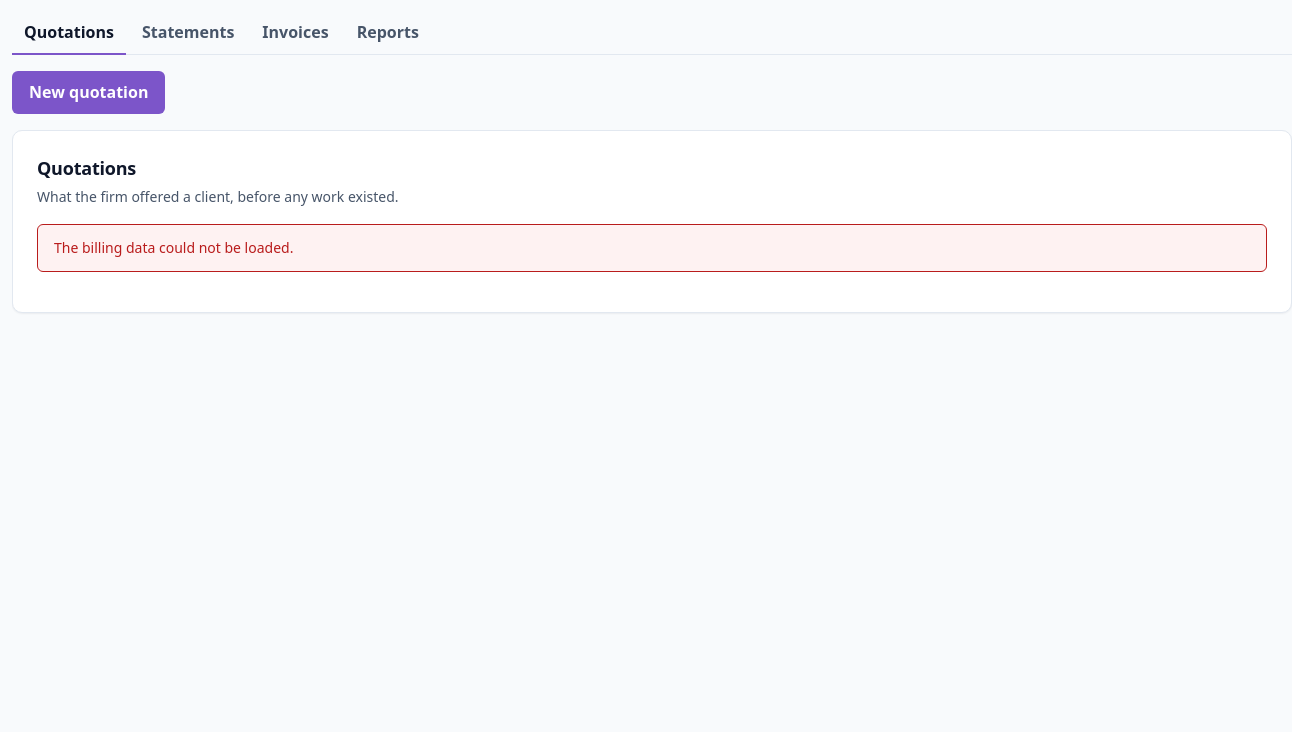
reviewing a statement › shows each line with who did it and at what rate
Click the button "Statements" at (188, 33), box [130,12,246,55]
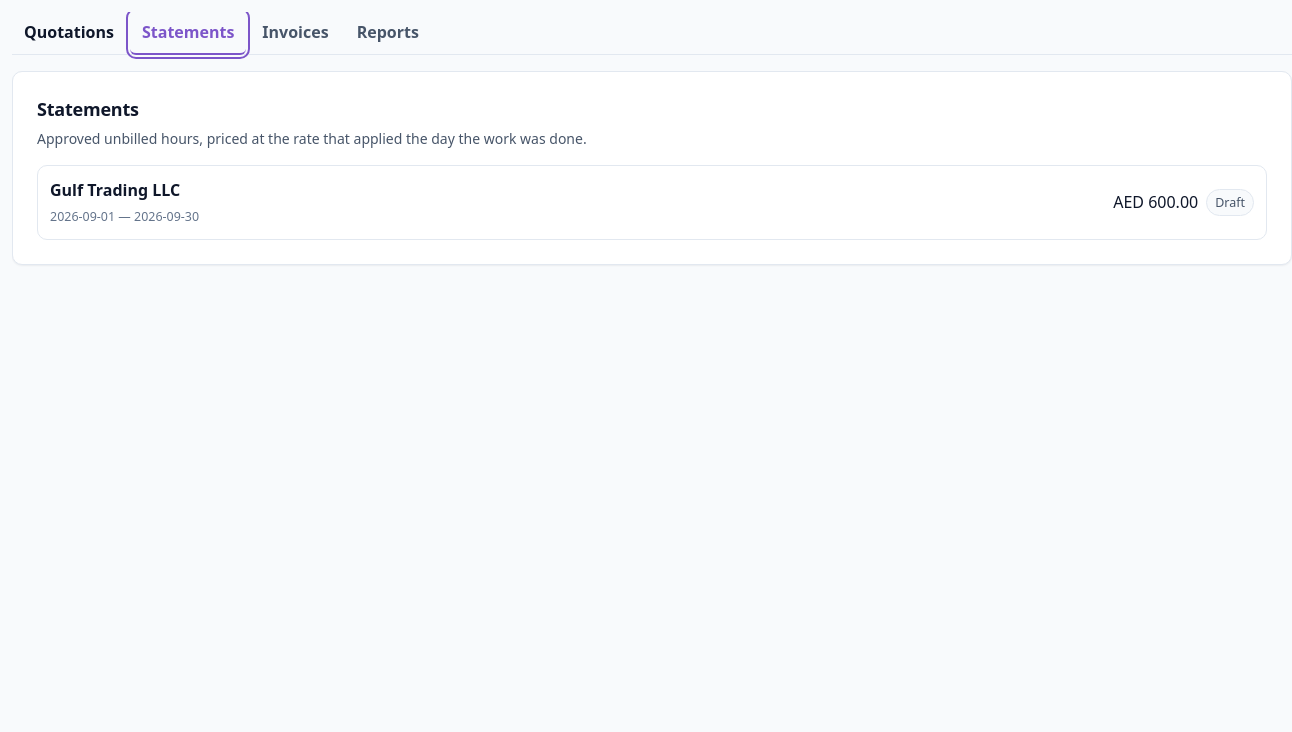
Click the button "Gulf Trading LLC 2026-09-01 — 2026-09-30 AED 600.00 Draft" at (115, 190), box [37,165,1267,240]
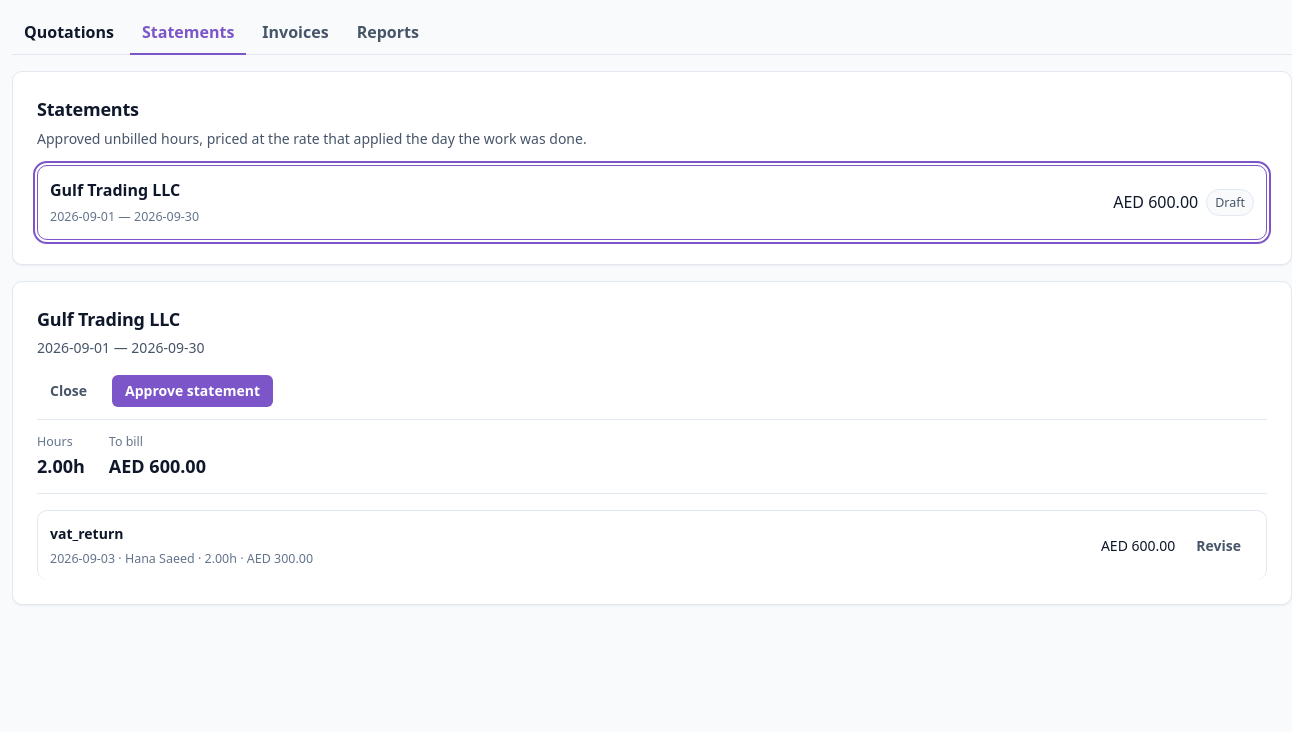
Now the text "2026-09-03 · Hana Saeed · 2.00h · AED 300.00" is shown, box [50,549,313,568]
